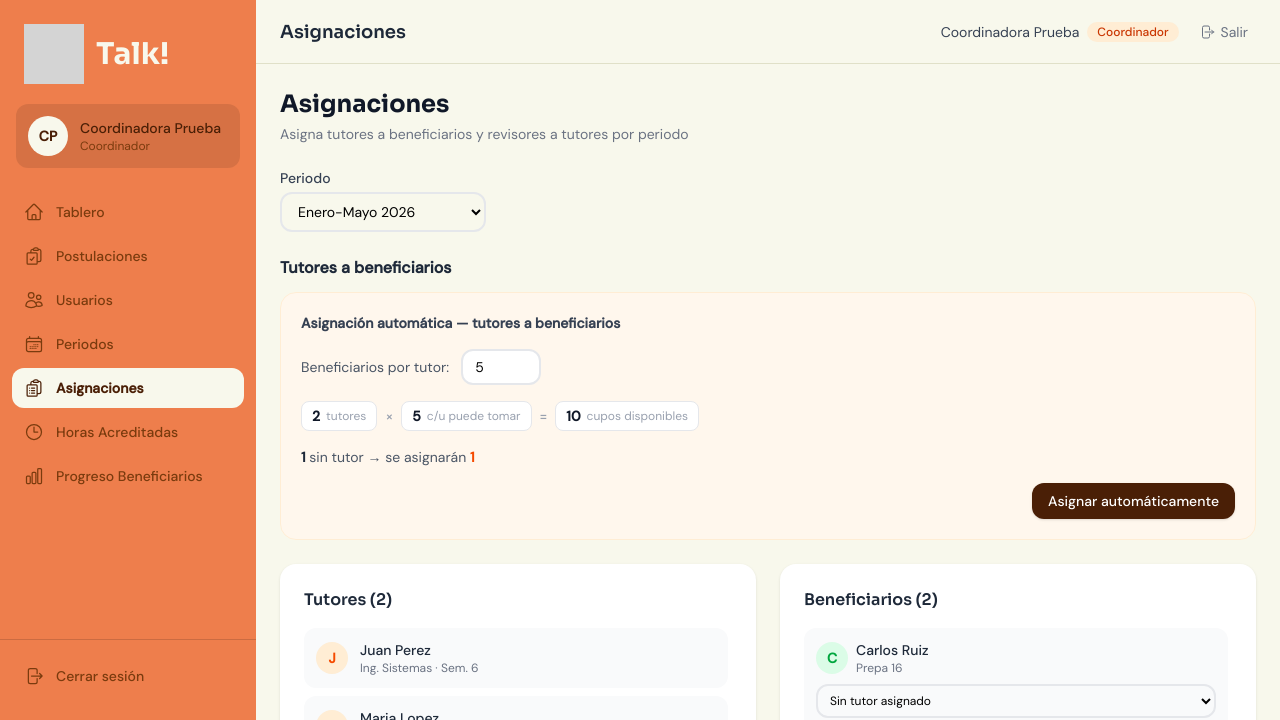
Test: Asignaciones › updates beneficiario assignment successfully
Select "Juan Perez" in the dropdown below "Carlos Ruiz" at (1016, 701), box [816, 684, 1216, 718]
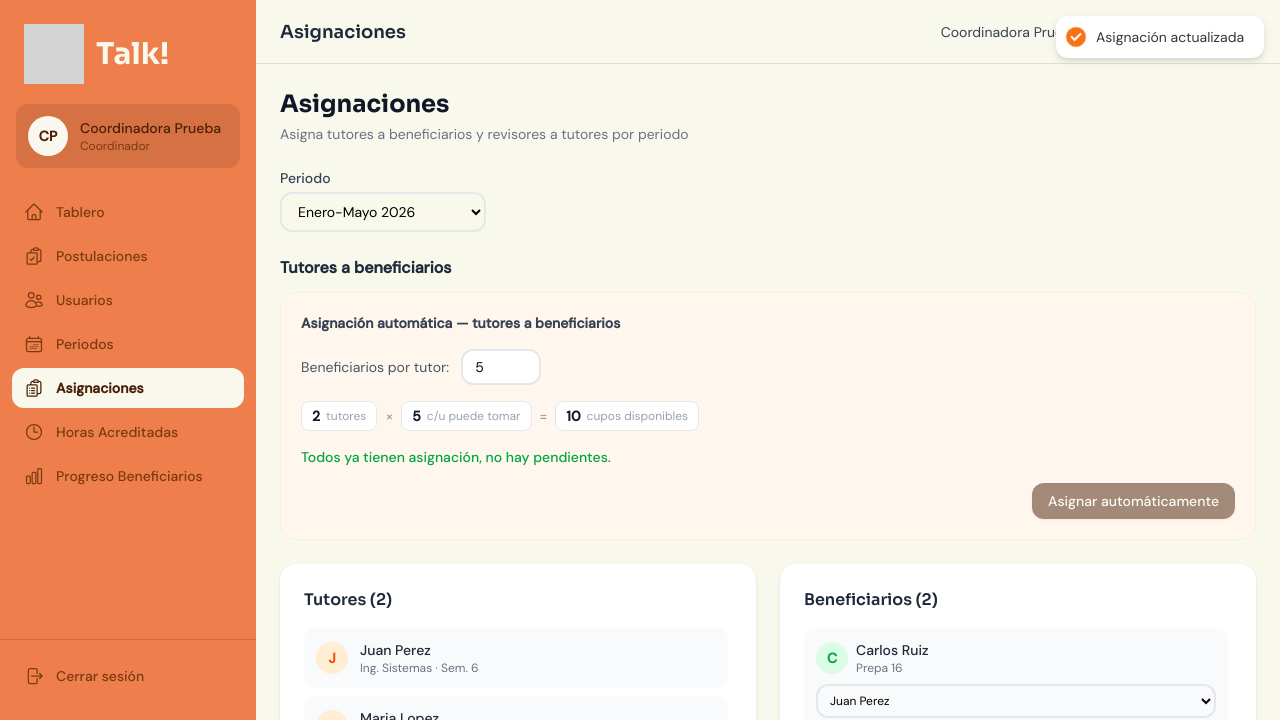
Now the text "Asignación actualizada" is shown, box [1096, 28, 1244, 46]
